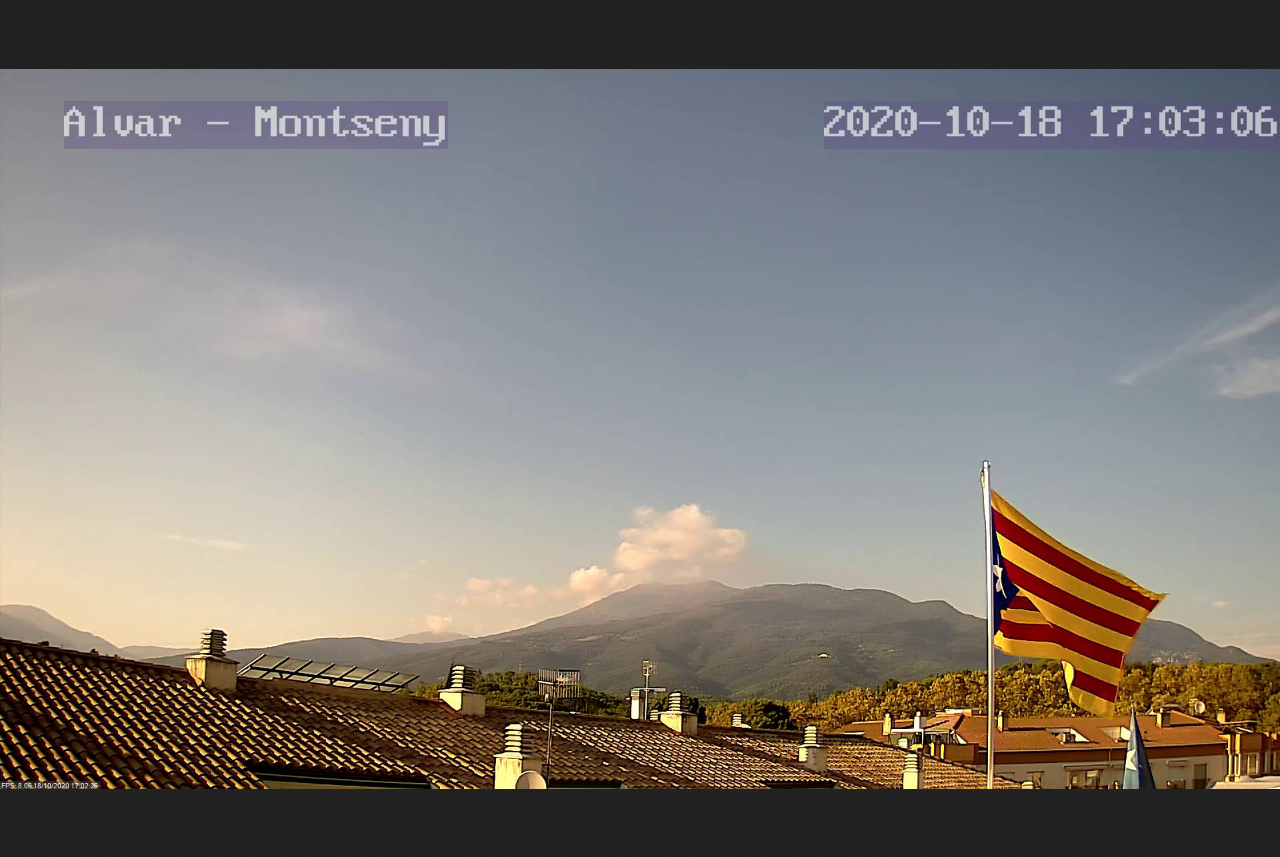maybe: (973, 450, 1180, 741)
